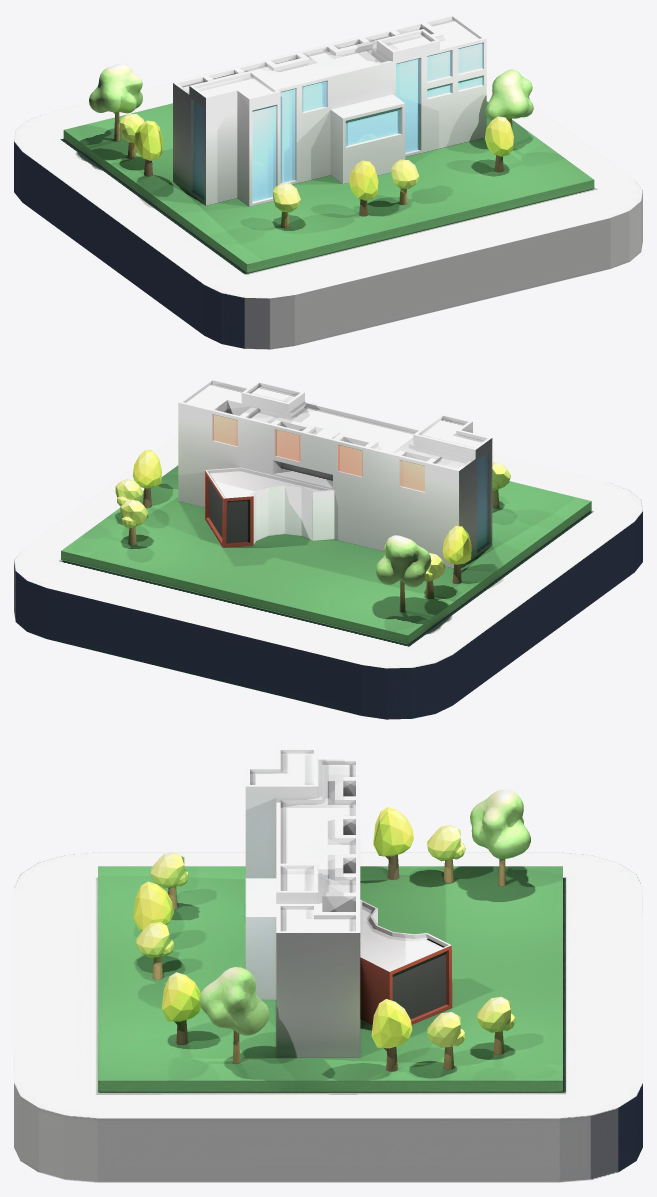
3 views of the same model, one above another, from view 1: azimuth 30°, elevation 25°; view 2: azimuth 150°, elevation 25°; view 3: azimuth 270°, elevation 25° (orthographic). The views are drawn at different scales.
Parts seen in each view (by area): view 1: Cube, 文學院1, Cylinder.009; view 2: Cube, 文學院1, Cylinder.009; view 3: Cube, 文學院1, Cylinder.009.
Boxes of the visible parts, x1,y1,x2,y2 form: Cube: (14,35,642,349); 文學院1: (173,14,486,206); Cylinder.009: (89,63,533,228); Cube: (14,436,642,719); 文學院1: (178,378,492,568); Cylinder.009: (115,449,510,611); Cube: (14,852,642,1182); 文學院1: (245,748,452,1057); Cylinder.009: (133,789,530,1071).
Size of the model in its own units: 15 by 5.62 by 15.
13 materials, 13 textured.
